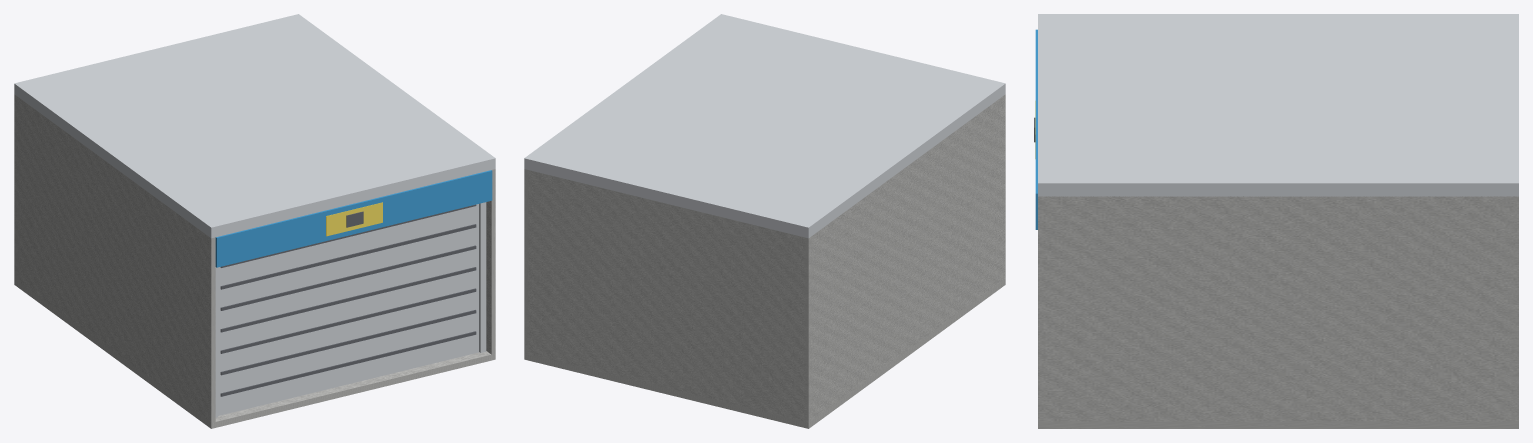
File: go-kart-track-and-pit-lane-pit-garage-bay-module-0d7abafa__34348.glb
3 views of the same model, side by side, from view 1: azimuth 30°, elevation 25°; view 2: azimuth 150°, elevation 25°; view 3: azimuth 270°, elevation 25° (orthographic). The views are drawn at different scales.
Visible parts, largest first — view 1: pit-garage-bay-module-steel, pit-garage-bay-module-concrete, shutter/steel, pit-garage-bay-module-azure, shutter/charcoal, pit-garage-bay-module-canary; view 2: pit-garage-bay-module-concrete, pit-garage-bay-module-steel; view 3: pit-garage-bay-module-concrete, pit-garage-bay-module-steel, pit-garage-bay-module-azure.
Boxes of the visible parts, <box> form: pit-garage-bay-module-steel: <box>14,14,495,417</box>; pit-garage-bay-module-concrete: <box>14,94,495,428</box>; shutter/steel: <box>218,204,478,415</box>; pit-garage-bay-module-azure: <box>215,170,492,267</box>; shutter/charcoal: <box>220,204,476,396</box>; pit-garage-bay-module-canary: <box>326,202,382,236</box>; pit-garage-bay-module-concrete: <box>524,94,1005,428</box>; pit-garage-bay-module-steel: <box>524,14,1005,238</box>; pit-garage-bay-module-concrete: <box>1038,196,1518,428</box>; pit-garage-bay-module-steel: <box>1038,14,1518,196</box>; pit-garage-bay-module-azure: <box>1035,29,1037,229</box>.
Size of the model in its own units: 5 by 3.38 by 6.05.
5 materials, 1 textured.
